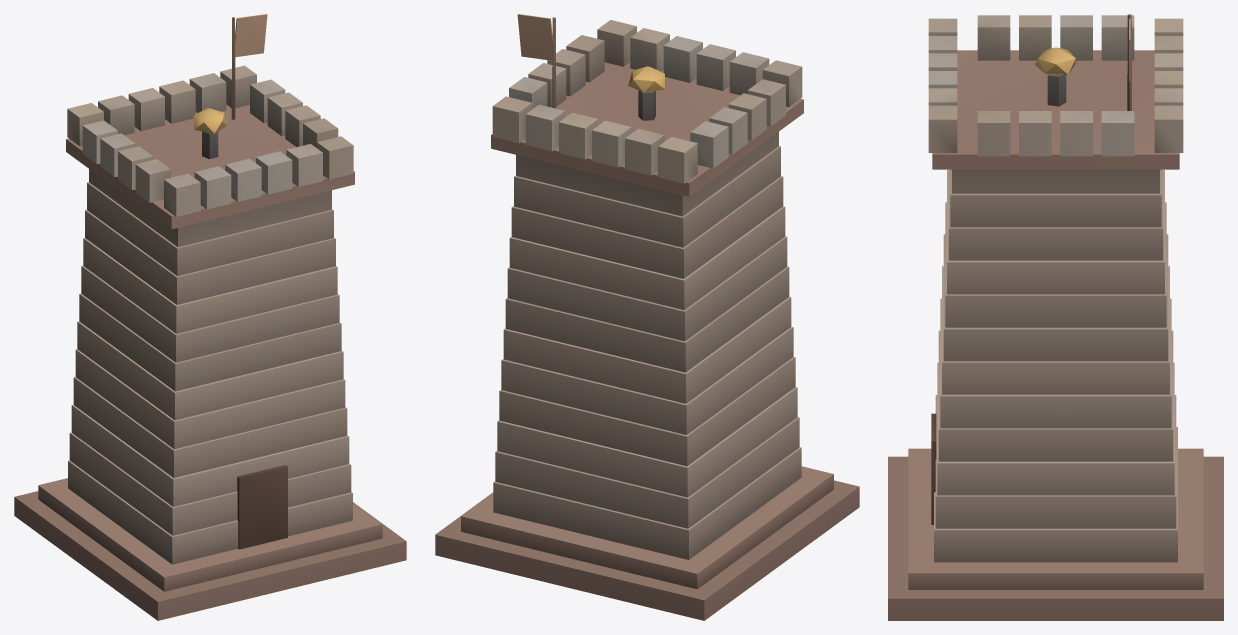
File: span_tower.glb
3 renders of one model, left to right at view 1: azimuth 30°, elevation 25°; view 2: azimuth 150°, elevation 25°; view 3: azimuth 270°, elevation 25°, orthographic. The views are drawn at different scales.
Visible parts, largest first — view 1: span_tower; view 2: span_tower; view 3: span_tower.
Part boxes in pixels (left/top/right/bottom): span_tower: left=14, top=14, right=406, bottom=620; span_tower: left=435, top=14, right=859, bottom=620; span_tower: left=888, top=14, right=1223, bottom=620.
Bounding box in the file's own units: 8.2 × 15.25 × 8.2.
